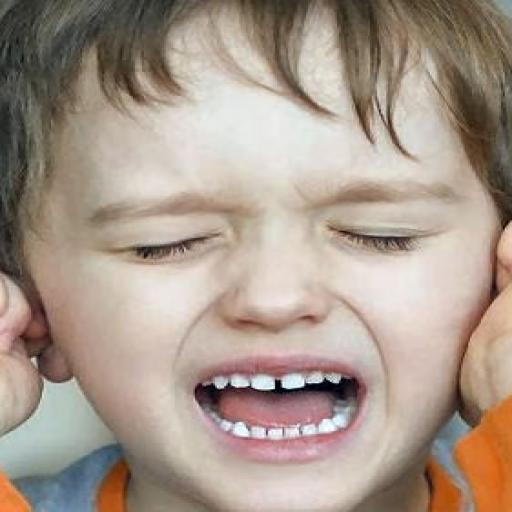Autism: (26, 14, 485, 456)
